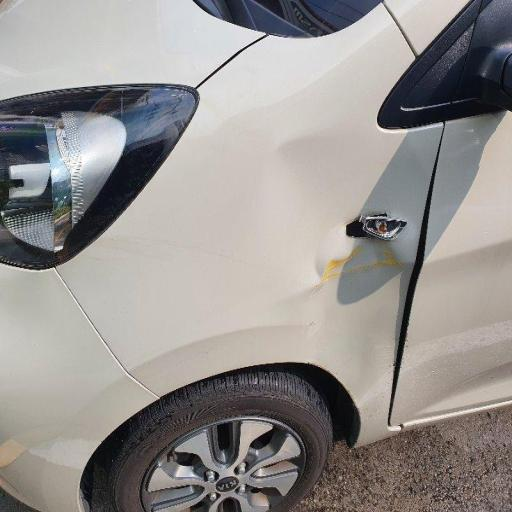broken: (310, 152, 408, 318)
dent: (271, 69, 483, 447)
